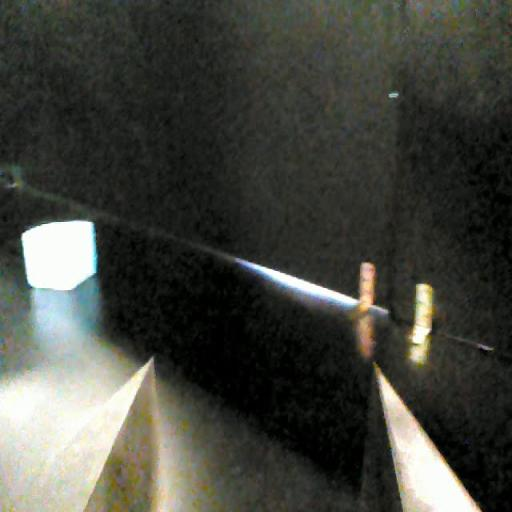cube: (20, 221, 102, 295)
